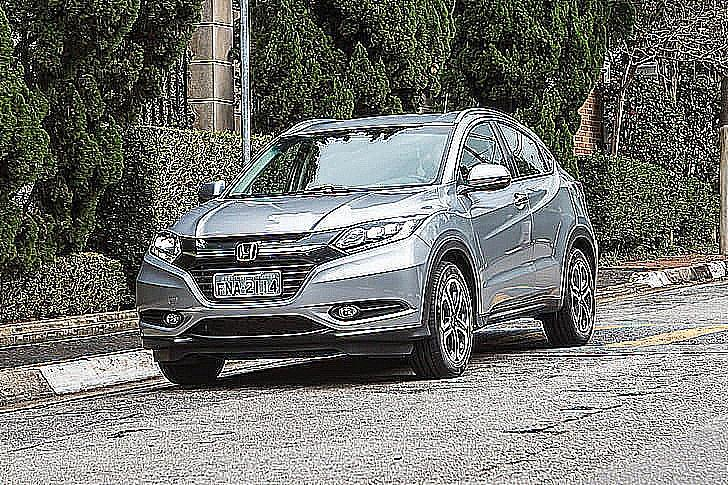Car hood: (162, 184, 449, 240)
Fender - -F-L-: (412, 177, 483, 321)
Fender - -R-L-: (568, 181, 591, 242)
Front bumper: (131, 248, 442, 351)
Headlight - -L-: (324, 211, 430, 258)
Headlight - -R-: (144, 224, 188, 267)
Passenger-s door - -F-L-: (462, 115, 535, 315)
Passenger-s door - -R-L-: (499, 116, 574, 315)
Rear light - -L-: (569, 167, 593, 204)
Side bumper - -L-: (466, 290, 577, 332)
Side mirror - -L-: (454, 160, 514, 202)
Side mirror - -R-: (195, 176, 230, 203)
